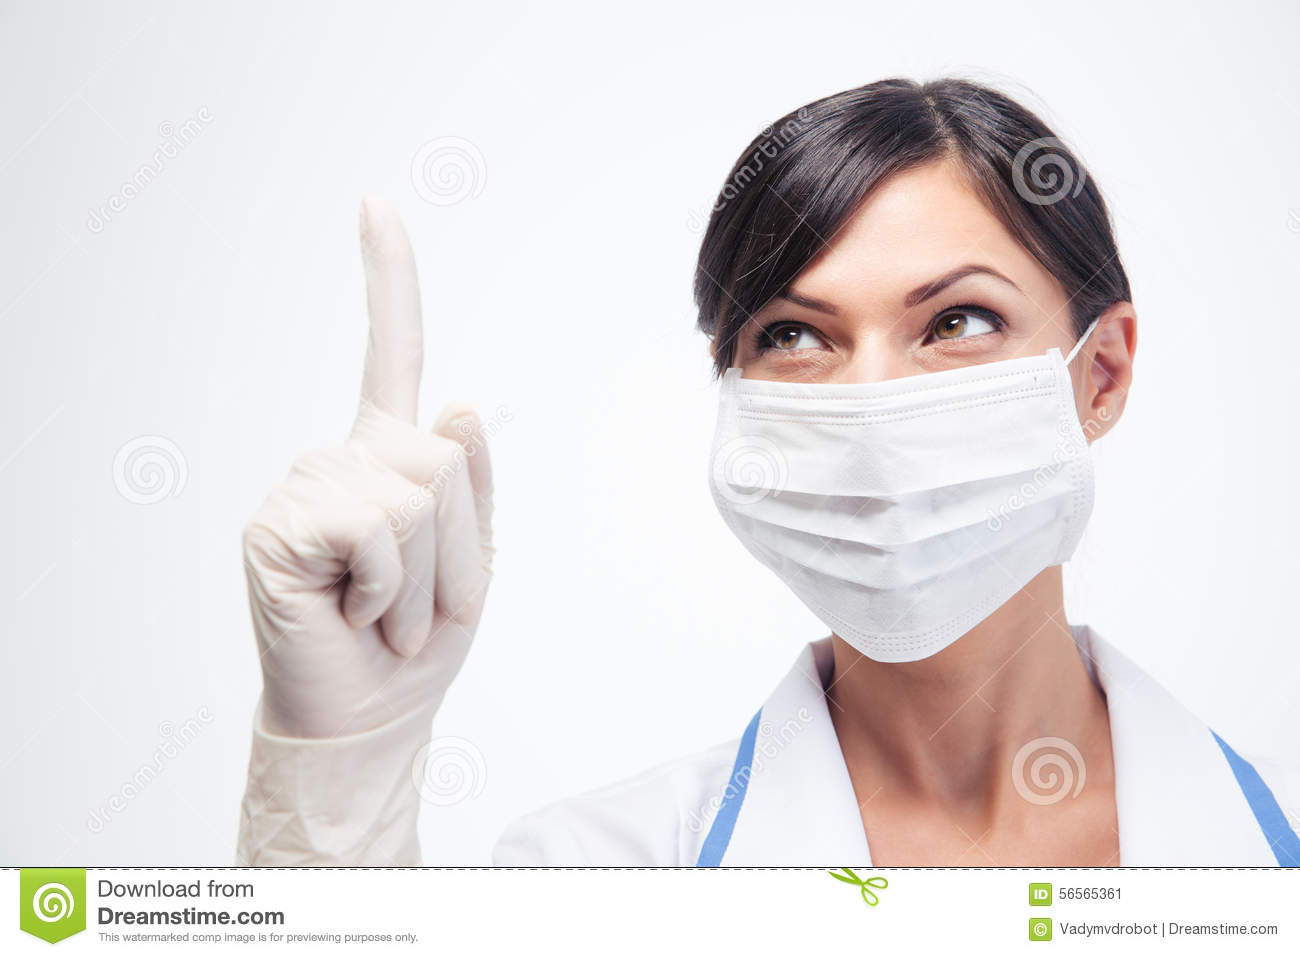mask: (706, 360, 1076, 646)
